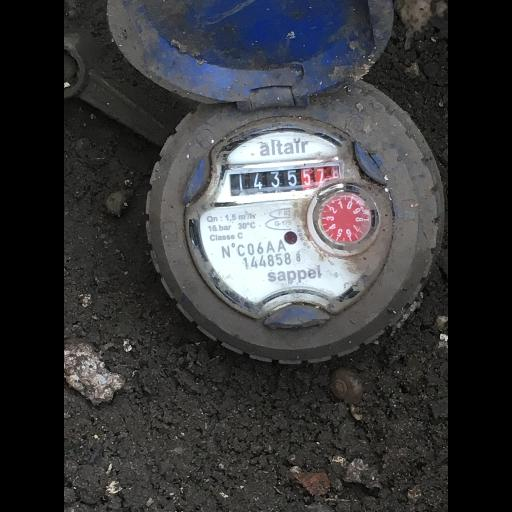1: (229, 172, 249, 196)
3: (265, 169, 283, 193)
4: (248, 172, 267, 195)
5: (281, 168, 301, 193), (299, 168, 315, 191)
7: (313, 166, 327, 188)
8: (326, 165, 341, 182)
border_water_meter_number: (222, 153, 348, 203)
